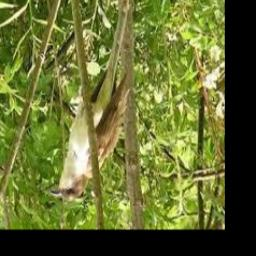Cuckoo: (49, 74, 130, 199)
